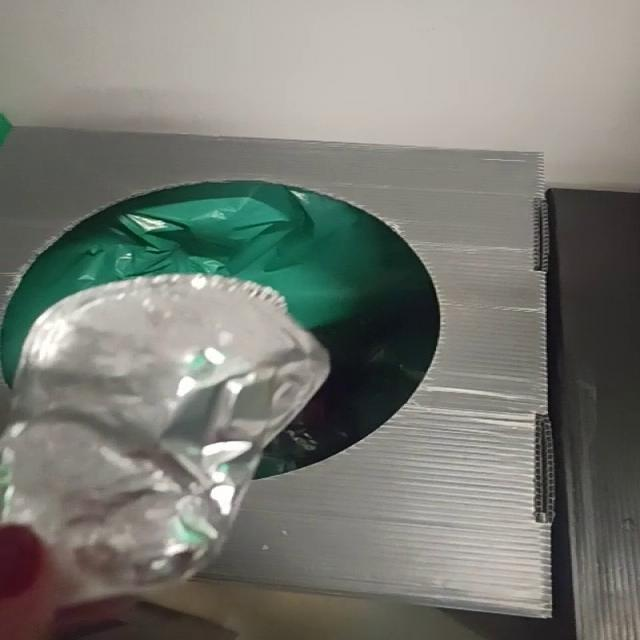bin: (1, 128, 553, 618)
metal: (1, 276, 328, 602)
